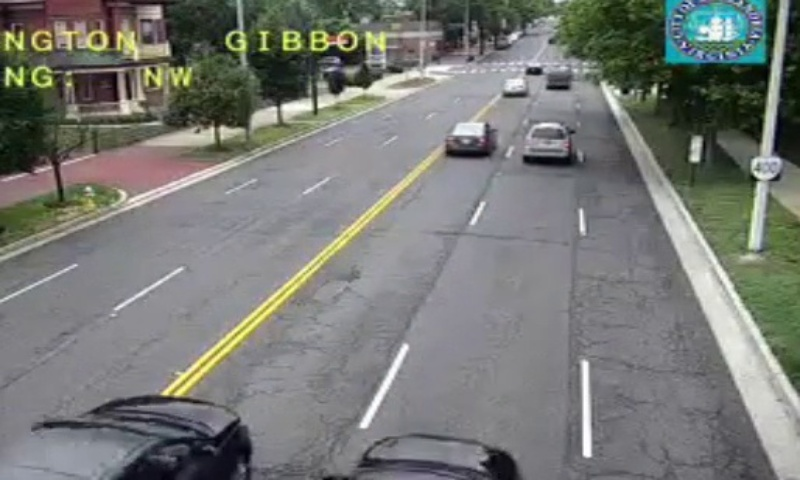car: (525, 123, 571, 161), (445, 120, 493, 154)
